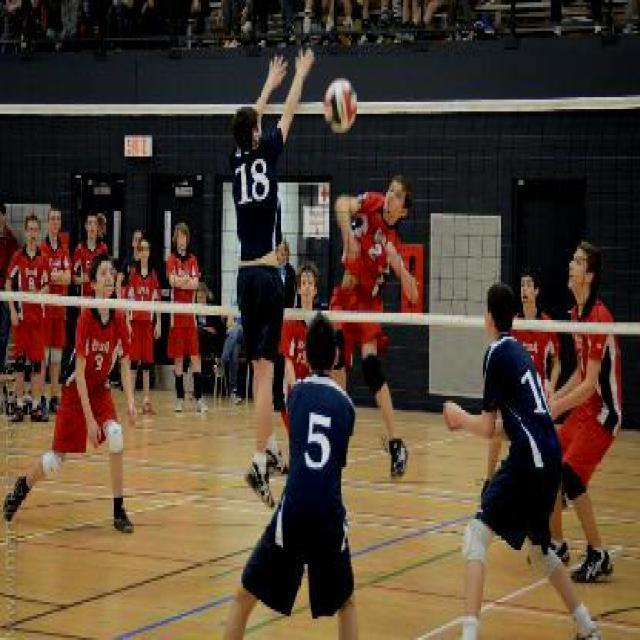volleyball: (324, 79, 357, 133)
